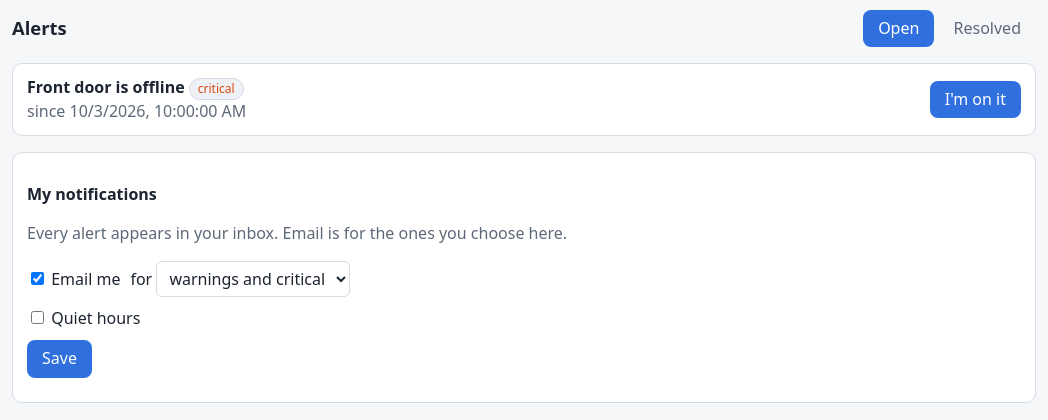
Test case: Alerts page › lists open alerts and lets a member say they are on it
The width and height of the screenshot is (1048, 420).
Expected: the text "Front door is offline" is shown, [27, 76, 185, 98]
Expected: the text "critical" is shown, [189, 78, 244, 100]
Click the button "I'm on it": (975, 100) [930, 81, 1021, 118]
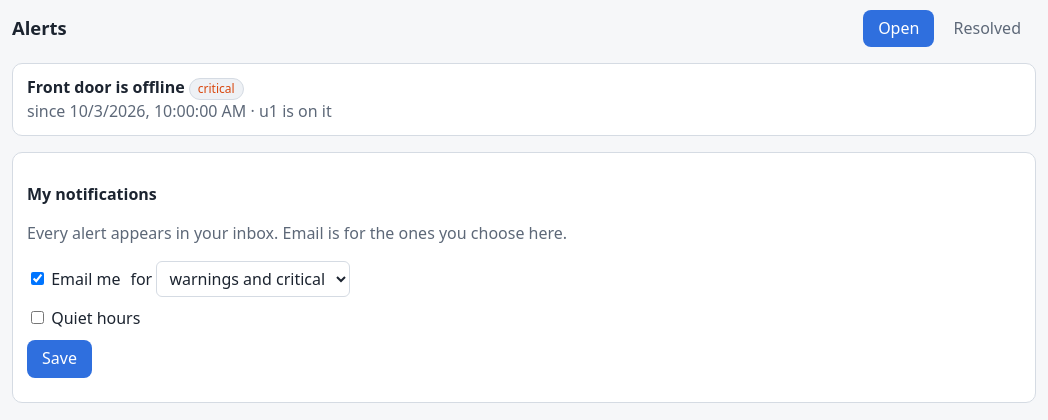
Result: the text "since 10/3/2026, 10:00:00 AM · u1 is on it" is shown at [27, 100, 332, 122]
